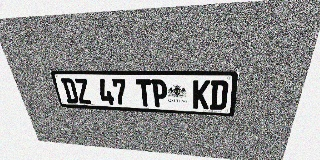4: (97, 79, 115, 105)
7: (111, 79, 129, 106)
D: (209, 80, 229, 110), (61, 78, 79, 103)
K: (193, 80, 210, 109)
P: (151, 79, 168, 107)
T: (136, 79, 153, 107)
Z: (73, 78, 92, 104)
